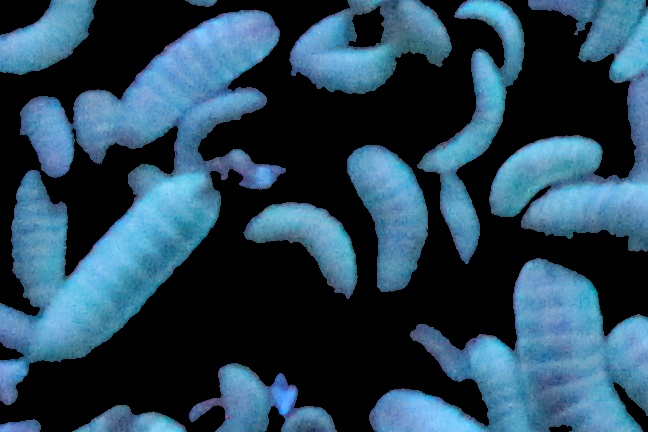larvae: (26, 175, 244, 370), (112, 9, 280, 147), (515, 258, 603, 432), (244, 197, 360, 304), (347, 143, 428, 289), (421, 46, 506, 178), (483, 132, 606, 217), (520, 177, 648, 241), (1, 1, 96, 74), (153, 90, 268, 150), (11, 170, 63, 302), (290, 40, 403, 98), (15, 92, 83, 185), (467, 335, 531, 432), (424, 160, 481, 263), (458, 1, 526, 86), (367, 387, 489, 432), (70, 85, 131, 164), (581, 1, 639, 64), (217, 363, 267, 432), (610, 15, 648, 85)
